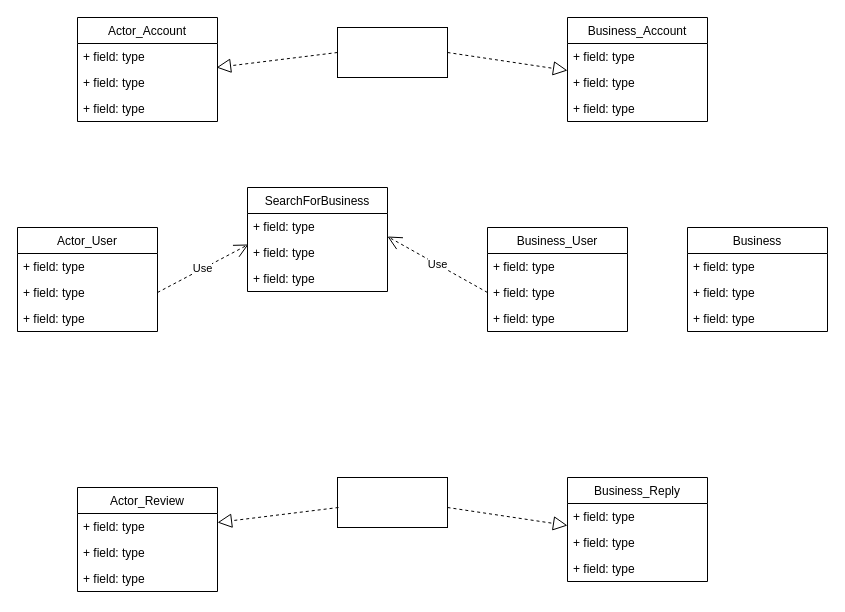
The diagram is 845 pixels wide and 612 high, and some of its shapes have lost their labels. Here are the shapes that lost their labels. From the top down, the centre of each, then its label:
At (x=392, y=52): "«interface» Account".
At (x=392, y=502): "«interface» Comment".
